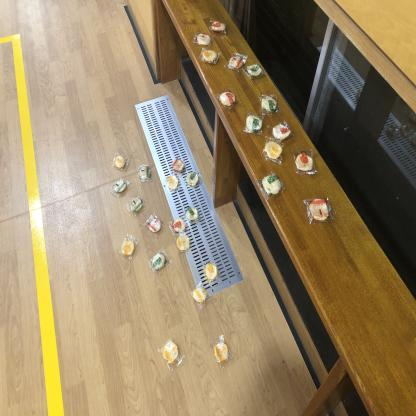green_setoshio: (260, 171, 285, 200), (148, 248, 168, 274), (244, 110, 264, 135), (260, 92, 280, 115), (246, 61, 266, 82), (126, 195, 146, 216), (110, 177, 130, 197), (185, 168, 203, 189), (137, 161, 153, 182), (185, 203, 201, 224)
red_setoshio: (302, 195, 336, 227), (294, 148, 318, 177), (214, 83, 237, 109), (190, 27, 216, 48), (272, 119, 294, 143), (228, 49, 246, 71), (146, 214, 164, 236), (209, 17, 229, 35), (167, 214, 187, 232), (171, 157, 187, 173)
yellow_setoshio: (160, 336, 184, 370), (212, 333, 233, 371), (262, 136, 285, 162), (198, 46, 223, 68), (118, 235, 138, 262), (111, 152, 134, 174), (190, 284, 212, 306), (202, 260, 221, 284), (163, 171, 181, 195), (176, 236, 192, 255)
